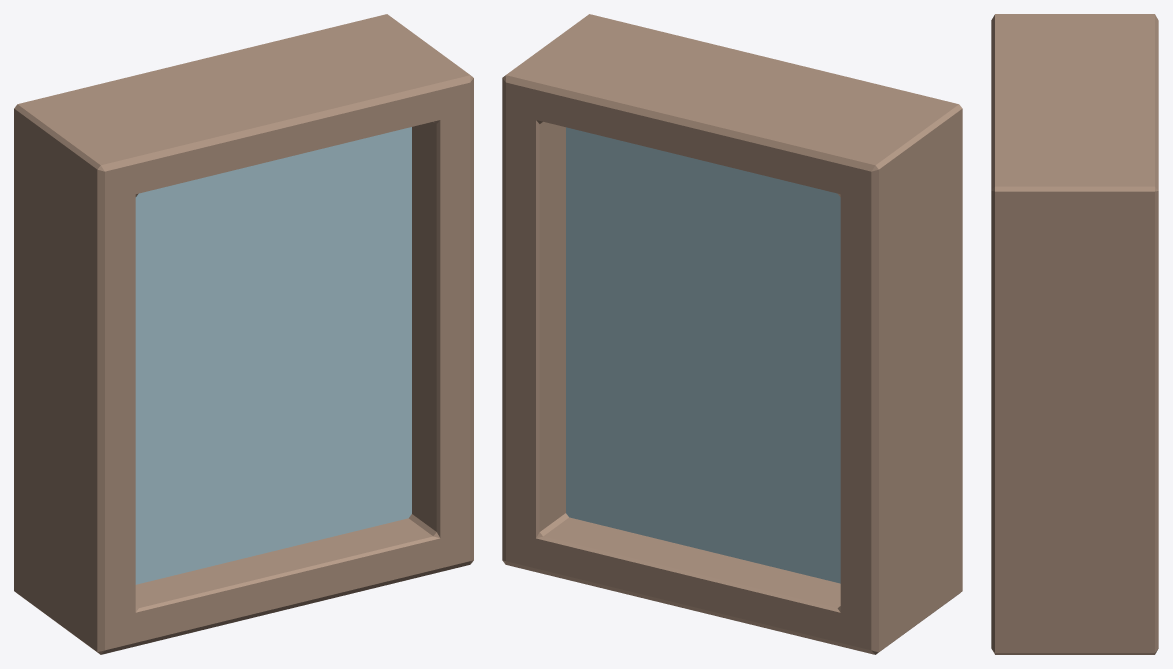
The model's file is Window_14.glb.
3 views of the same model, side by side, from view 1: azimuth 30°, elevation 25°; view 2: azimuth 150°, elevation 25°; view 3: azimuth 270°, elevation 25° (orthographic). The views are drawn at different scales.
Visible parts, largest first — view 1: Window_14; view 2: Window_14; view 3: Window_14.
Boxes of the visible parts, x1,y1,x2,y2 form: Window_14: (14, 14, 473, 654); Window_14: (502, 14, 962, 654); Window_14: (991, 14, 1158, 654).
Size of the model in its own units: 1.31 by 1.63 by 0.5258.
2 materials, 2 textured.
